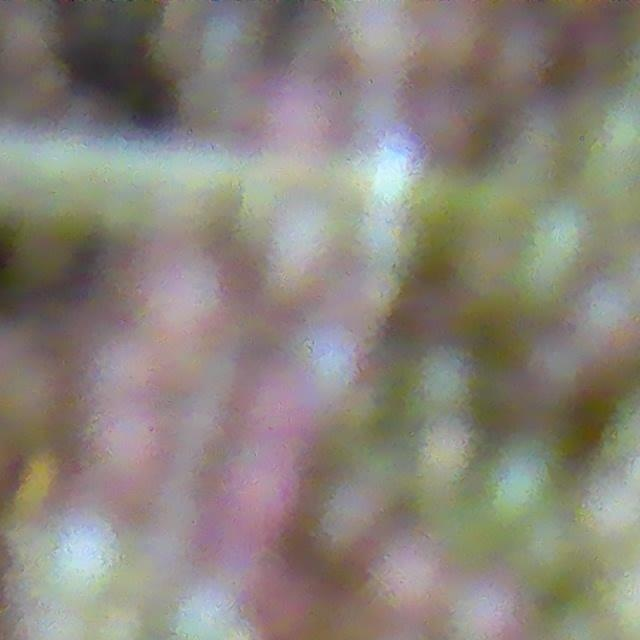SeaGrape: (130, 233, 230, 342), (209, 440, 302, 540), (361, 526, 442, 633), (77, 405, 165, 503), (477, 442, 562, 530), (112, 340, 203, 417), (235, 561, 323, 640), (514, 513, 591, 597), (244, 361, 307, 447), (441, 577, 511, 640)
